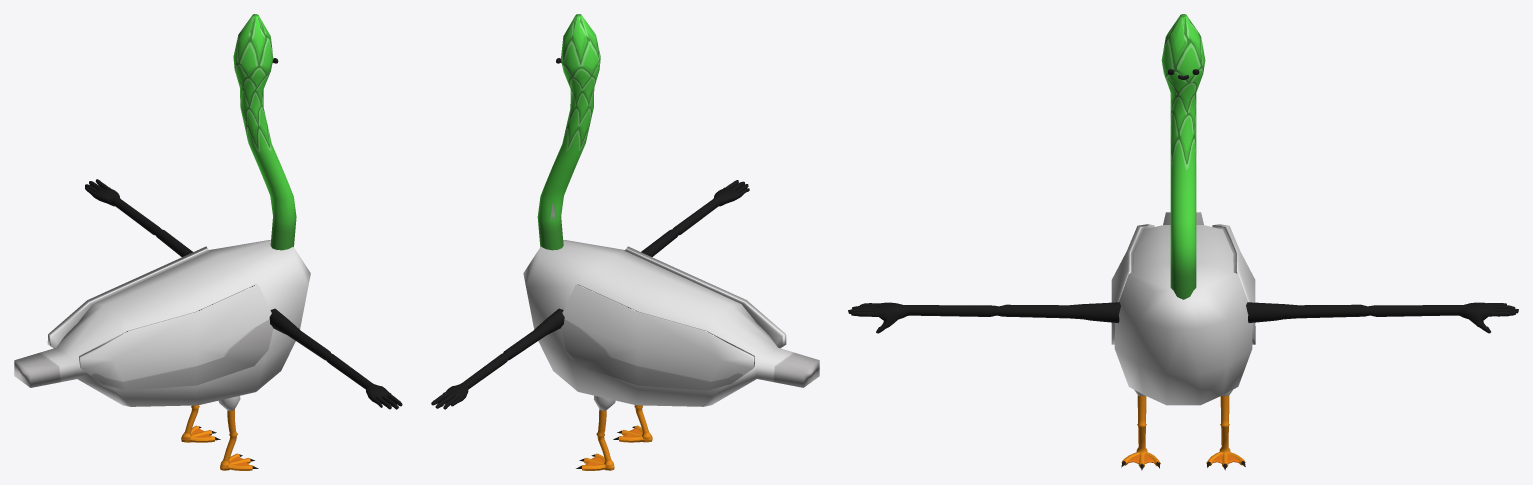
File: scene_WhLV6P4uMF.glb
The picture shows the model from 3 angles, left to right: view 1: azimuth 30°, elevation 25°; view 2: azimuth 150°, elevation 25°; view 3: azimuth 270°, elevation 25°; orthographic projection. The views are drawn at different scales.
Parts seen in each view (by area): view 1: _100Avatars_150_COOLAspraragoose; view 2: _100Avatars_150_COOLAspraragoose; view 3: _100Avatars_150_COOLAspraragoose.
Part boxes in pixels (left/top/right/bottom): _100Avatars_150_COOLAspraragoose: left=14, top=14, right=402, bottom=470; _100Avatars_150_COOLAspraragoose: left=431, top=14, right=819, bottom=470; _100Avatars_150_COOLAspraragoose: left=848, top=14, right=1518, bottom=470.
Bounding box in the file's own units: 2.86 × 4.18 × 5.43.
Materials: 1 (1 with a texture image).
